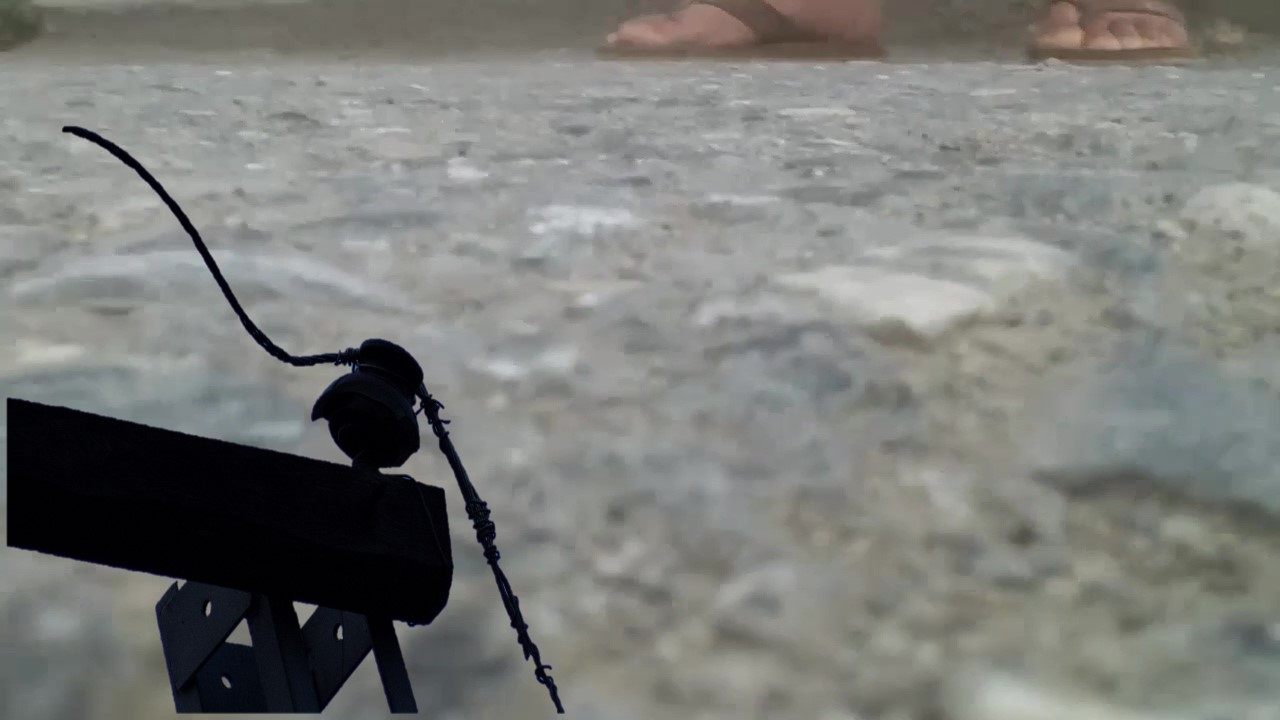defect_pin: (311, 331, 425, 470)
